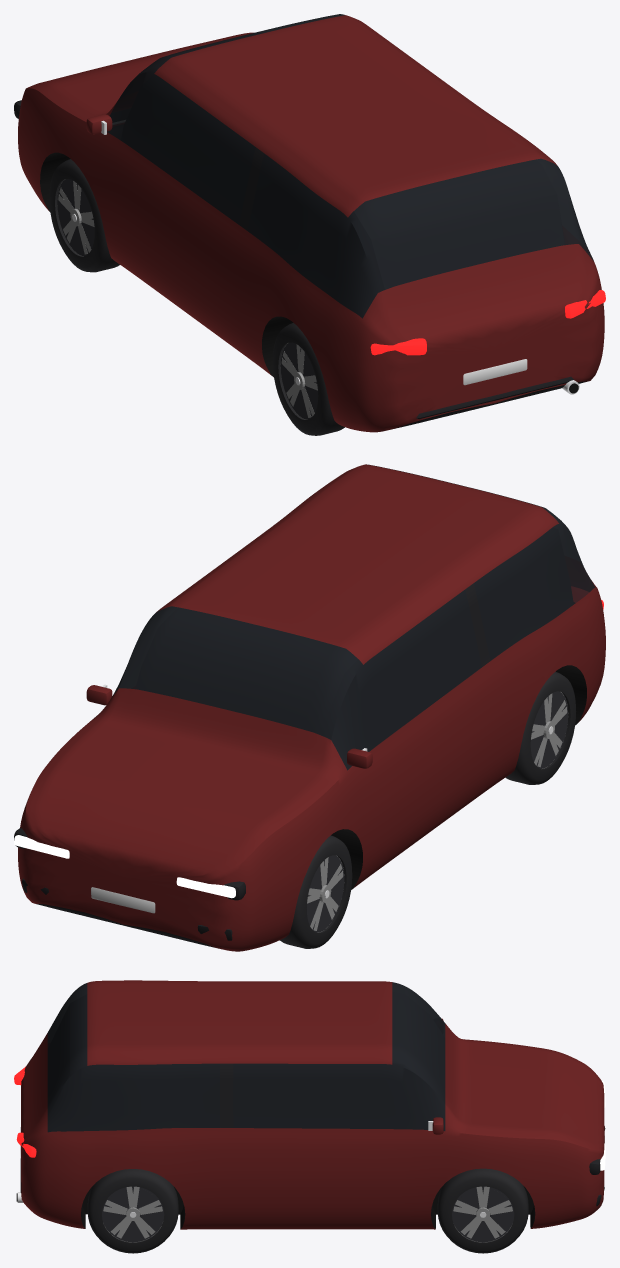
File: traffic_suv.glb
3 renders of one model, top to bottom at view 1: azimuth 30°, elevation 25°; view 2: azimuth 150°, elevation 25°; view 3: azimuth 270°, elevation 25°, orthographic. The views are drawn at different scales.
Parts seen in each view (by area): view 1: Body, Wheel_FL, Wheel_RL; view 2: Body, Wheel_FL, Wheel_RL; view 3: Body, Wheel_FR, Wheel_RR.
Boxes of the visible parts, x1,y1,x2,y2 form: Body: [14, 14, 605, 432]; Wheel_FL: [49, 159, 119, 272]; Wheel_RL: [273, 323, 344, 435]; Body: [14, 464, 605, 951]; Wheel_FL: [280, 835, 352, 948]; Wheel_RL: [505, 671, 576, 784]; Body: [14, 980, 605, 1229]; Wheel_FR: [437, 1168, 528, 1253]; Wheel_RR: [87, 1169, 178, 1253].
Bounding box in the file's own units: 2.07 × 1.75 × 4.82.
